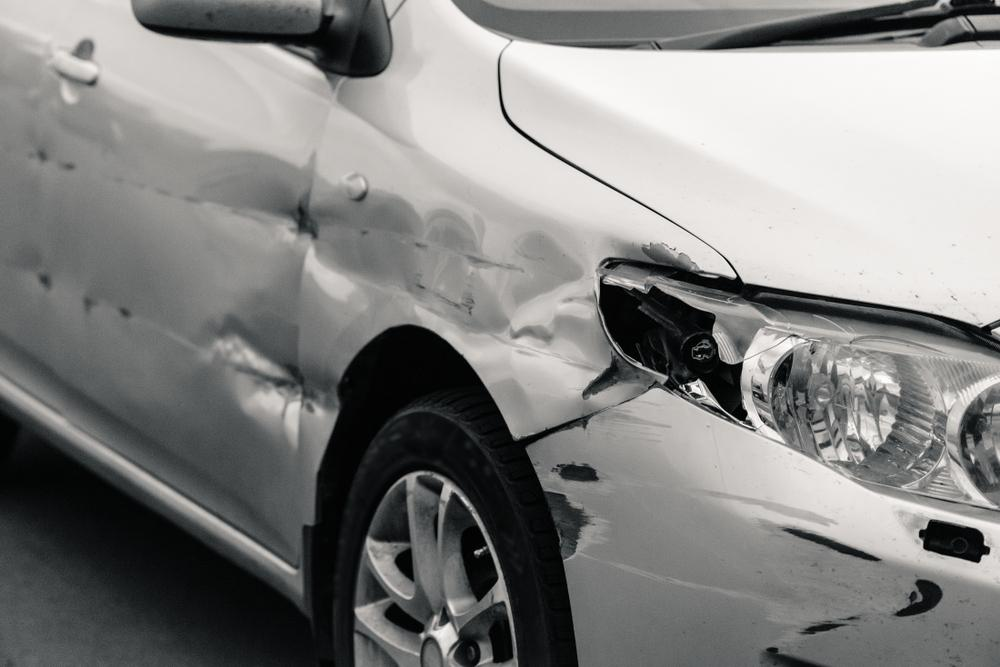dent: (303, 191, 603, 395), (192, 308, 303, 444), (192, 162, 313, 283), (295, 361, 341, 413)
lamp broken: (597, 262, 1000, 511)
scratch: (543, 400, 1000, 667)
